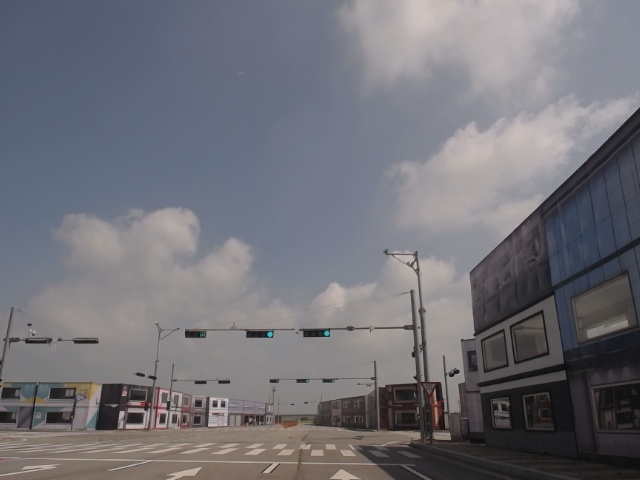straight_green_4: (246, 328, 275, 341), (303, 328, 330, 338)
